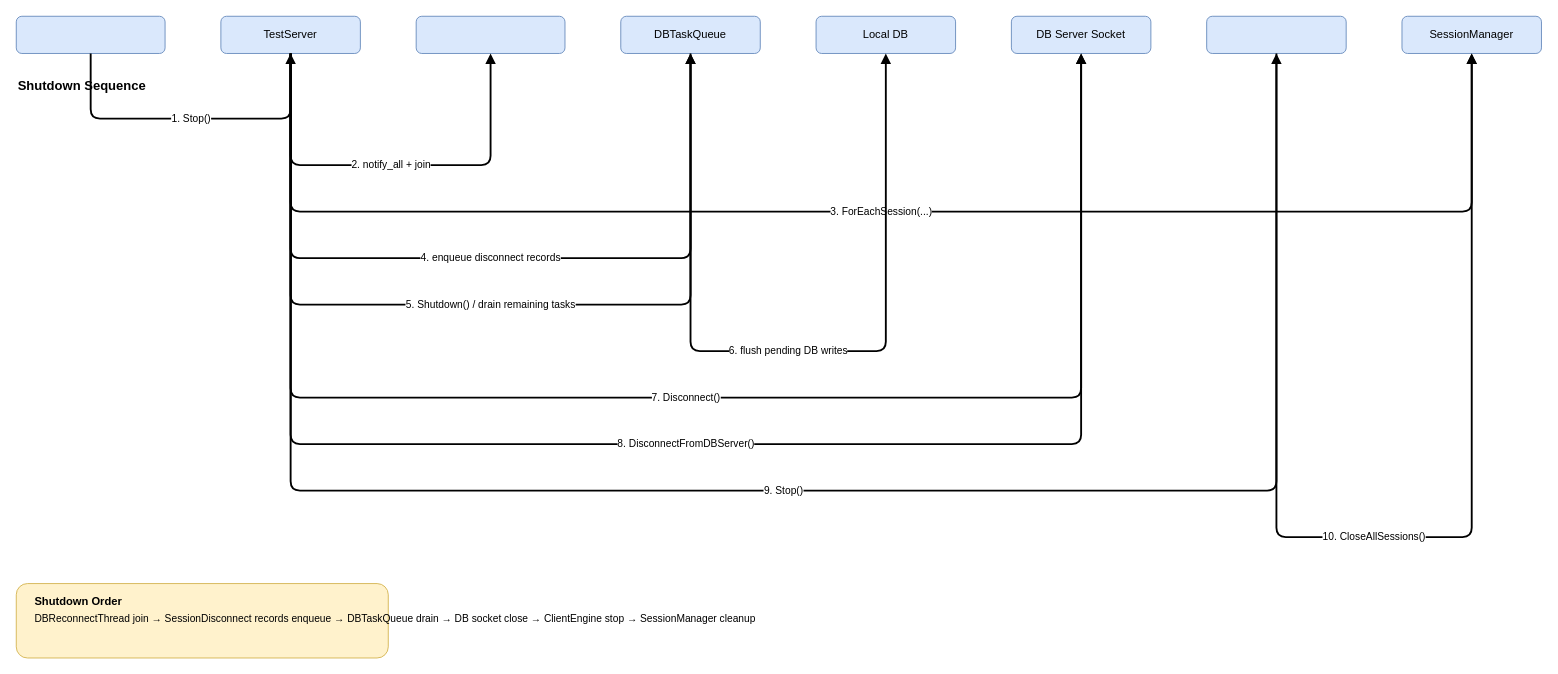
The diagram is 1558 pixels wide and 674 high, and some of its shapes have lost their labels. The shapes that lost their labels are listed below. From the top down, each one's centre as x and y in pixels, then its label:
At (x=90, y=34): "Signal/Main Thread".
At (x=490, y=34): "DBReconnectThread".
At (x=1276, y=34): "ClientEngine".
